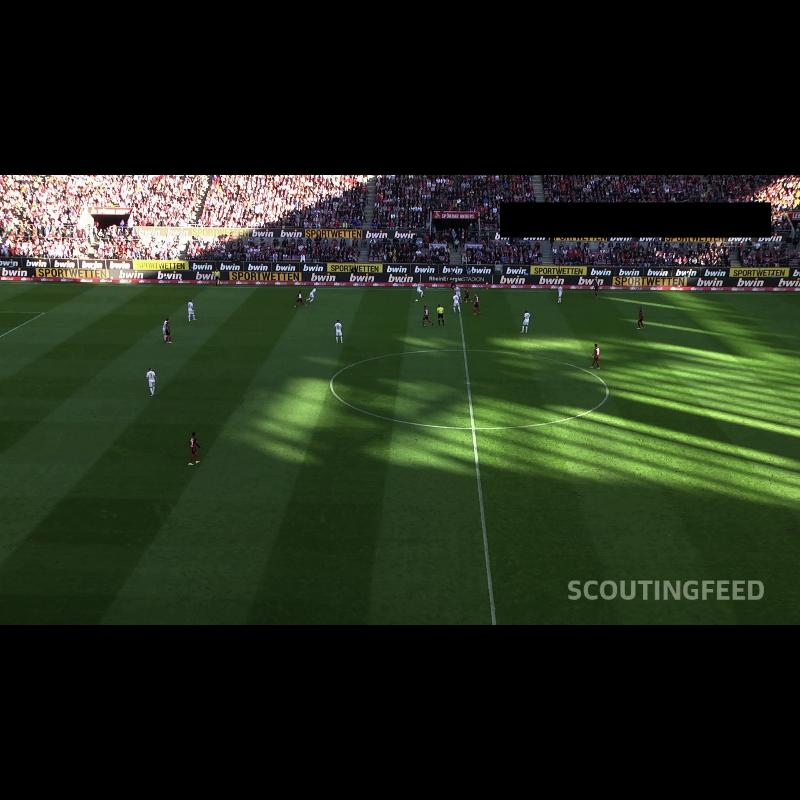cross_recipient_zone: (0, 312, 44, 336)
crossing_player_zone: (0, 283, 207, 316), (716, 293, 800, 324)
